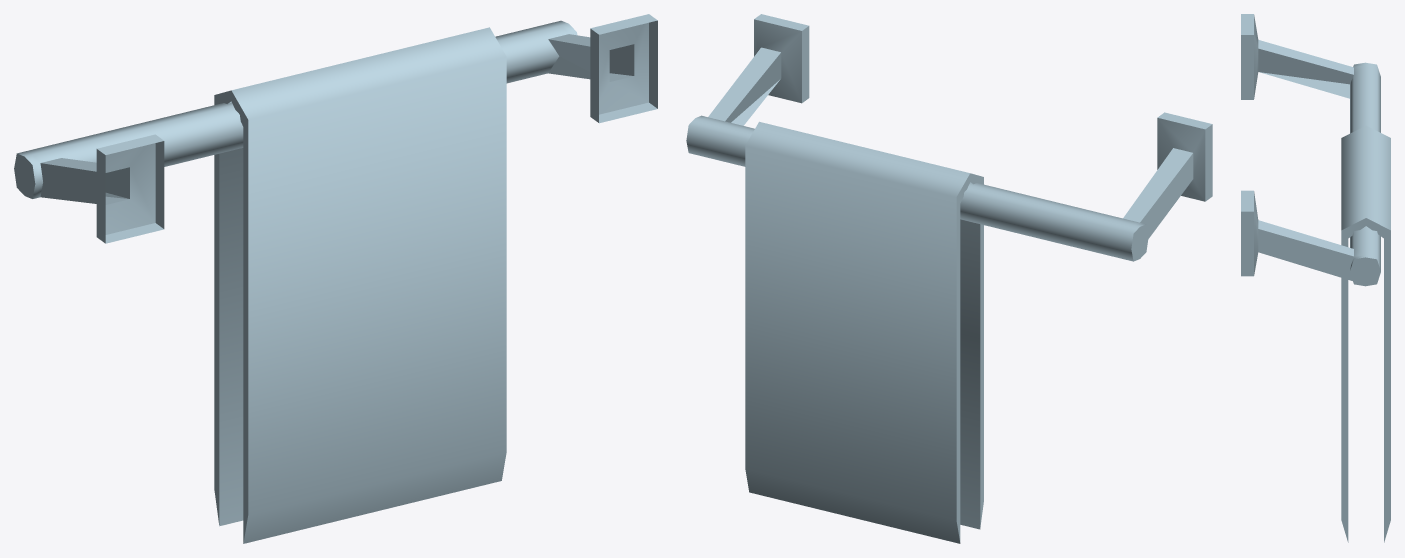
File: Prop_towel.FBX
3 renders of one model, left to right at view 1: azimuth 30°, elevation 25°; view 2: azimuth 150°, elevation 25°; view 3: azimuth 270°, elevation 25°, orthographic. The views are drawn at different scales.
Visible parts, largest first — view 1: Prop_bathroombb2, Prop_bathroombb1; view 2: Prop_bathroombb2, Prop_bathroombb1; view 3: Prop_bathroombb1, Prop_bathroombb2.
Boxes of the visible parts, <box> form: Prop_bathroombb2: <box>214,27,506,543</box>; Prop_bathroombb1: <box>14,14,657,243</box>; Prop_bathroombb2: <box>745,121,983,543</box>; Prop_bathroombb1: <box>686,14,1212,261</box>; Prop_bathroombb1: <box>1241,14,1380,286</box>; Prop_bathroombb2: <box>1341,125,1390,542</box>.
Bounding box in the file's own units: 20.71 × 6.64 × 17.7.
